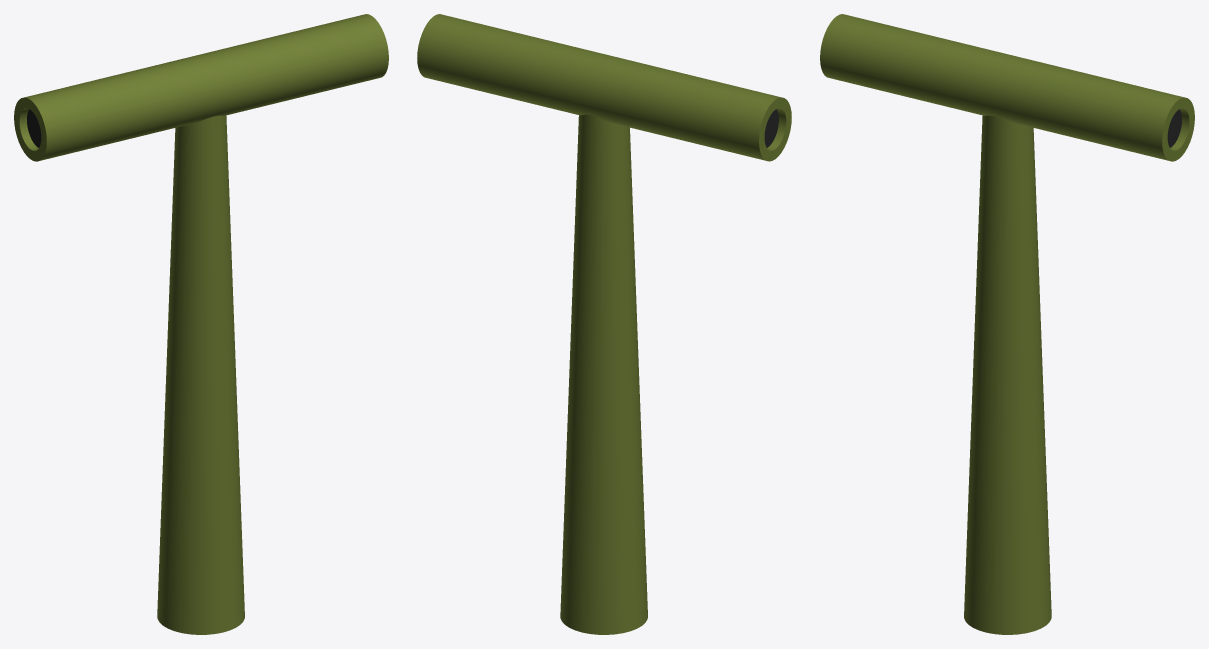
File: Drying crap.fbx
3 renders of one model, left to right at view 1: azimuth 30°, elevation 25°; view 2: azimuth 150°, elevation 25°; view 3: azimuth 330°, elevation 25°, orthographic.
Visible parts, largest first — view 1: Drying crap; view 2: Drying crap; view 3: Drying crap.
Boxes of the visible parts, x1,y1,x2,y2 form: Drying crap: (14, 14, 388, 634); Drying crap: (417, 14, 791, 634); Drying crap: (820, 14, 1194, 634).
Bounding box in the file's own units: 296 × 462 × 65.98.
